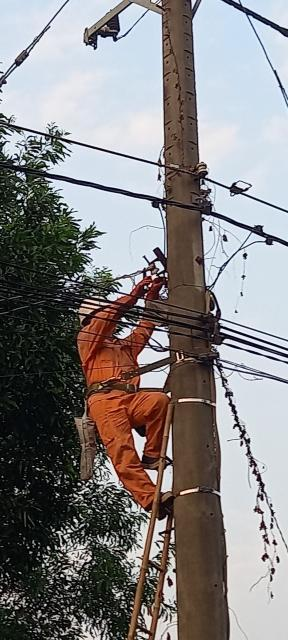gloves: (112, 255, 150, 318), (134, 265, 171, 311)
harness: (61, 370, 157, 402)
helmet: (61, 291, 115, 321)
shoes: (135, 486, 182, 523), (129, 452, 172, 481)
